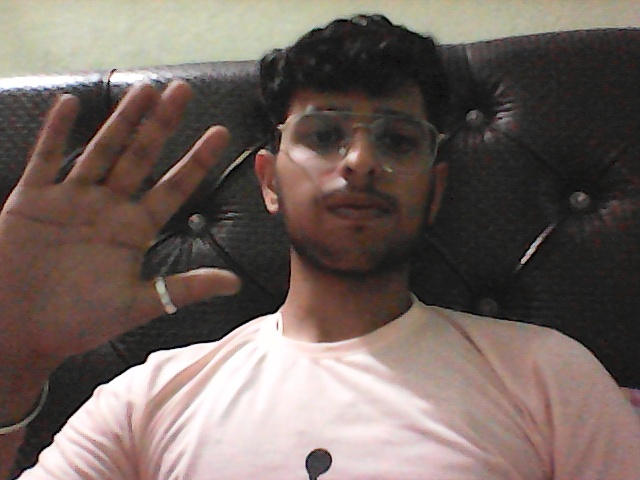hello: (1, 56, 272, 480)
